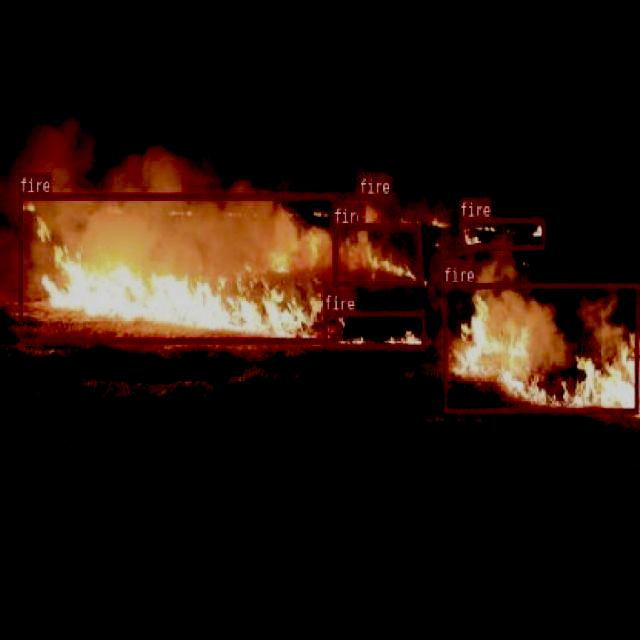fire: (18, 192, 337, 342), (442, 282, 638, 413), (332, 224, 420, 284), (323, 310, 425, 350), (458, 217, 544, 250), (358, 194, 382, 228)
